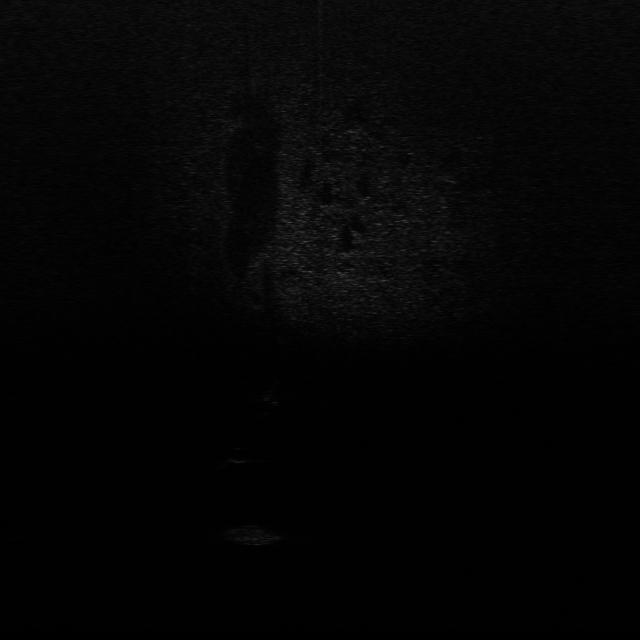ball: (222, 446, 254, 465)
circle cage: (224, 521, 286, 546)
human body: (261, 377, 288, 418)
